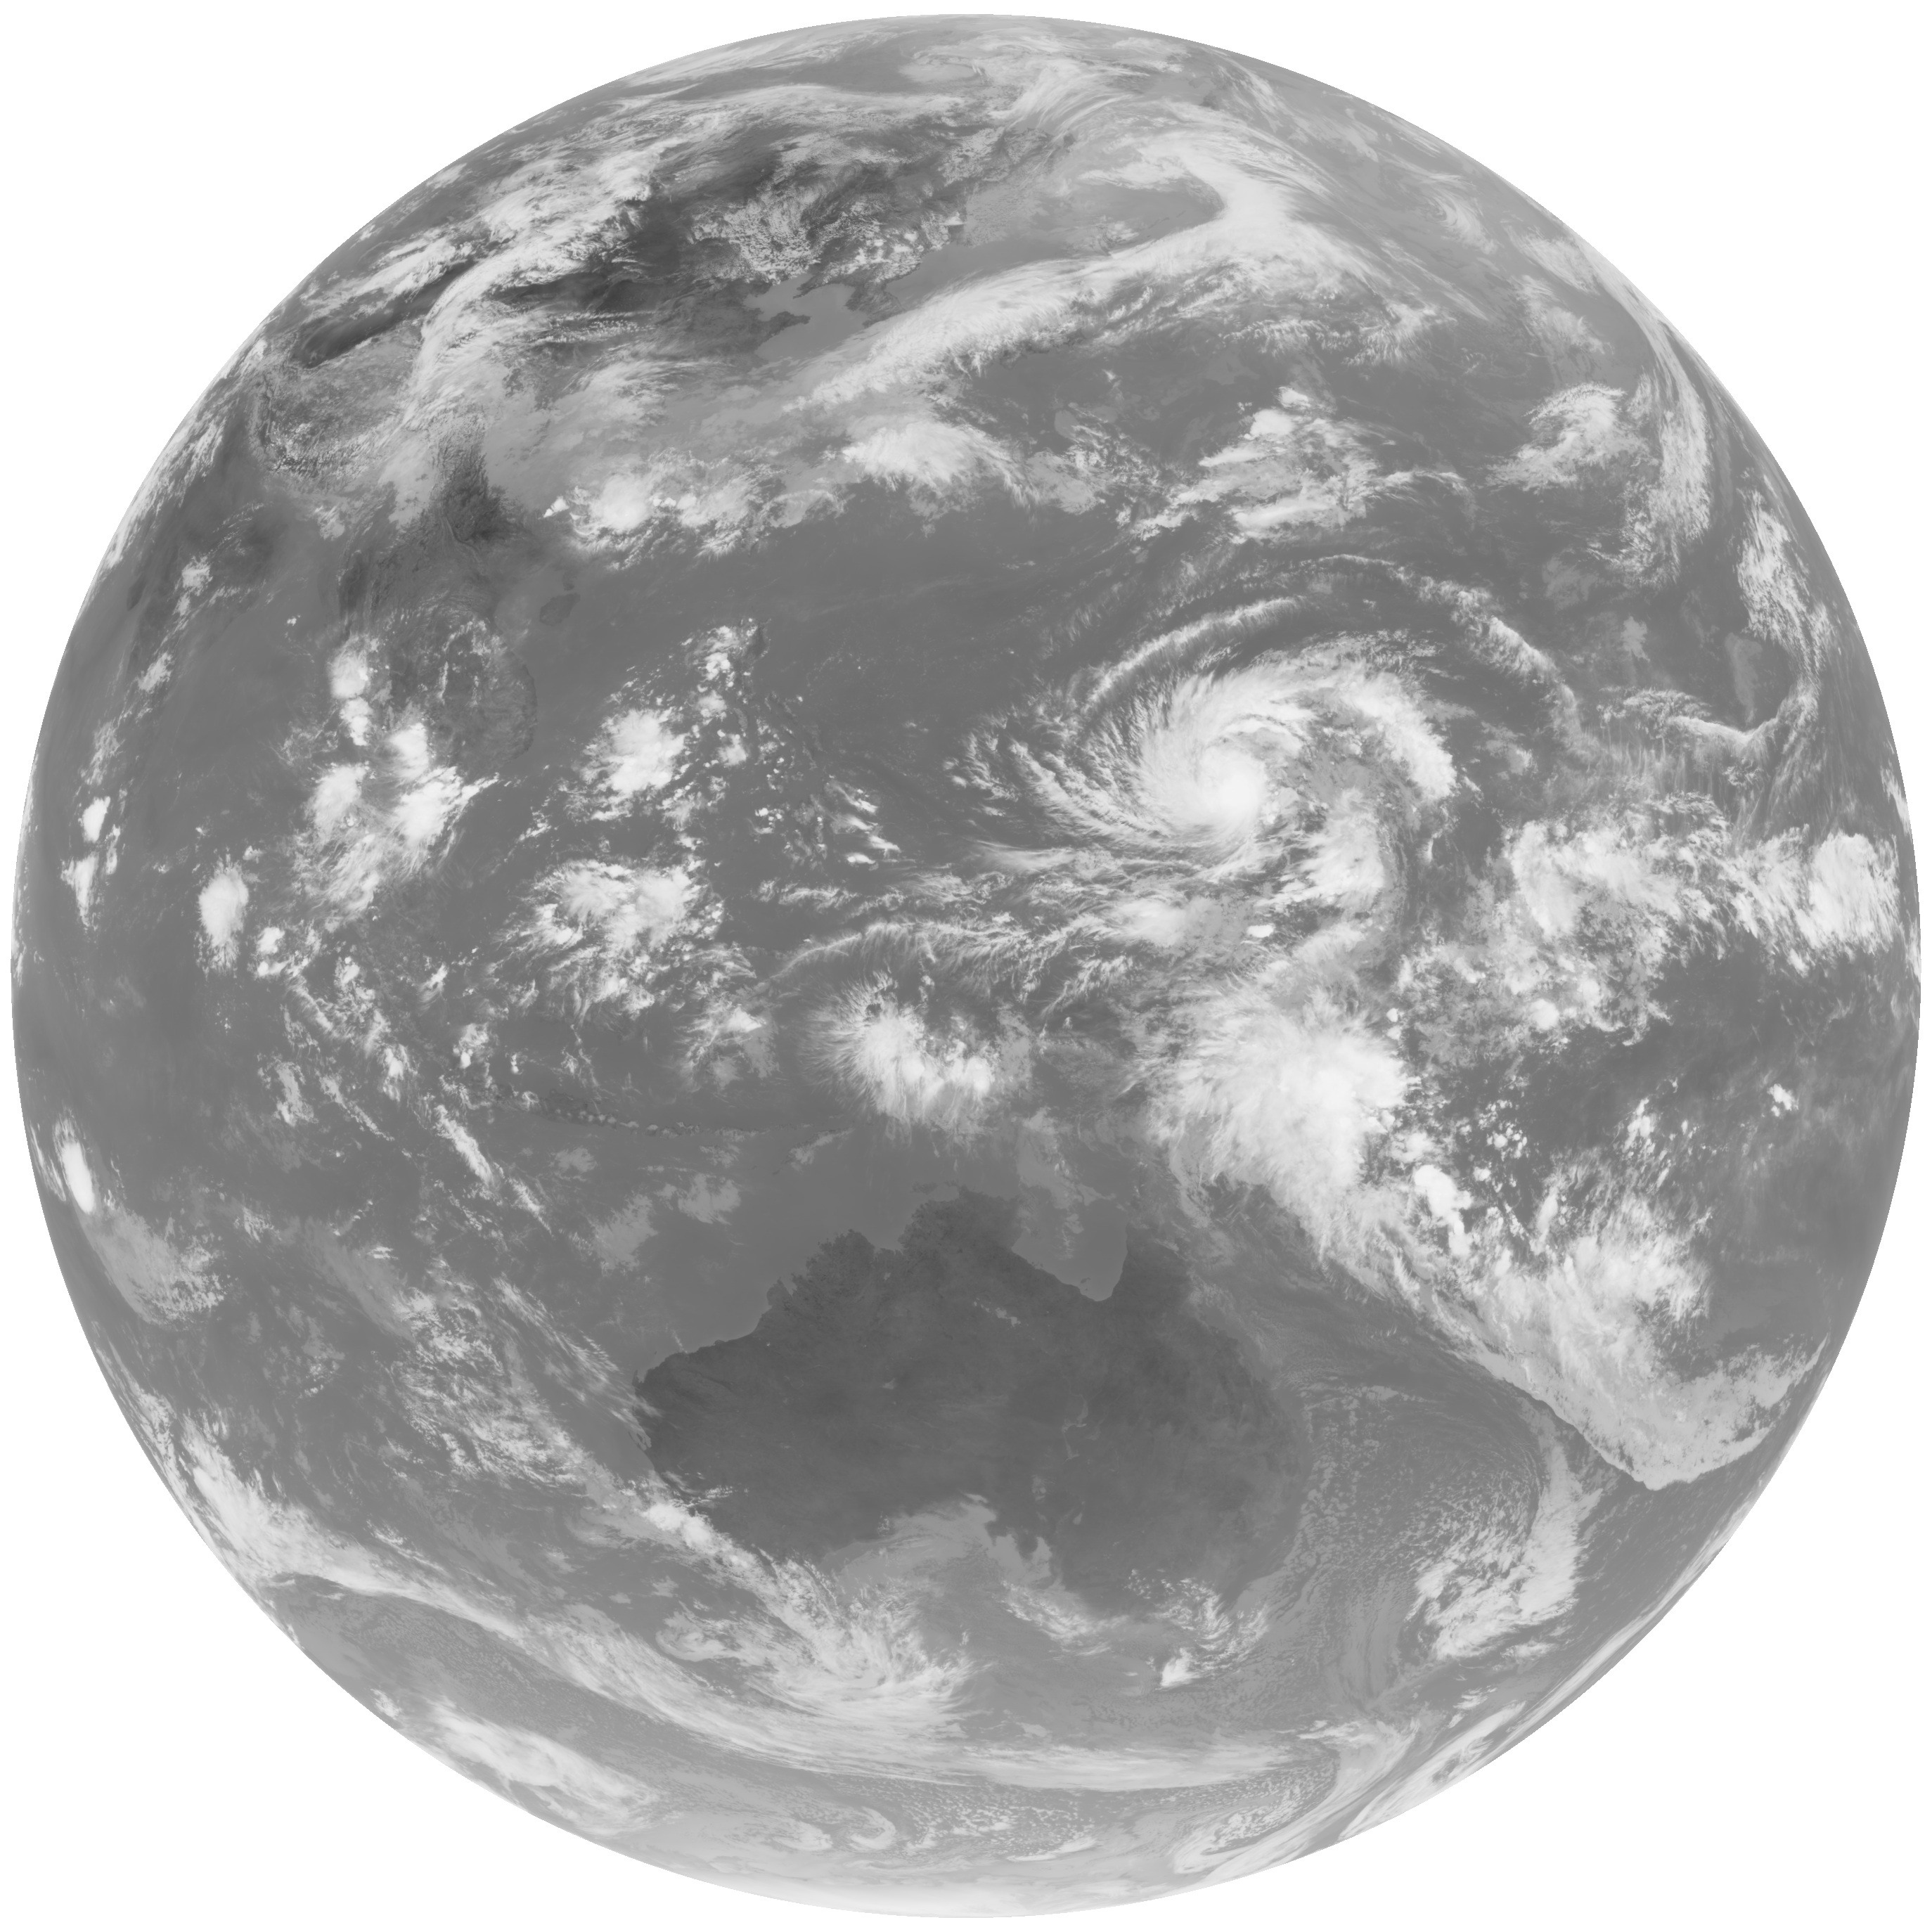typhoon: (948, 582, 1497, 970)
